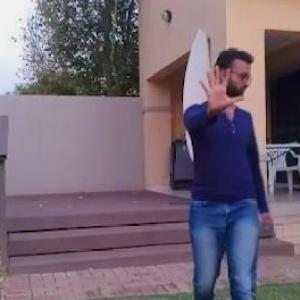follow_hand: (194, 61, 245, 121)
